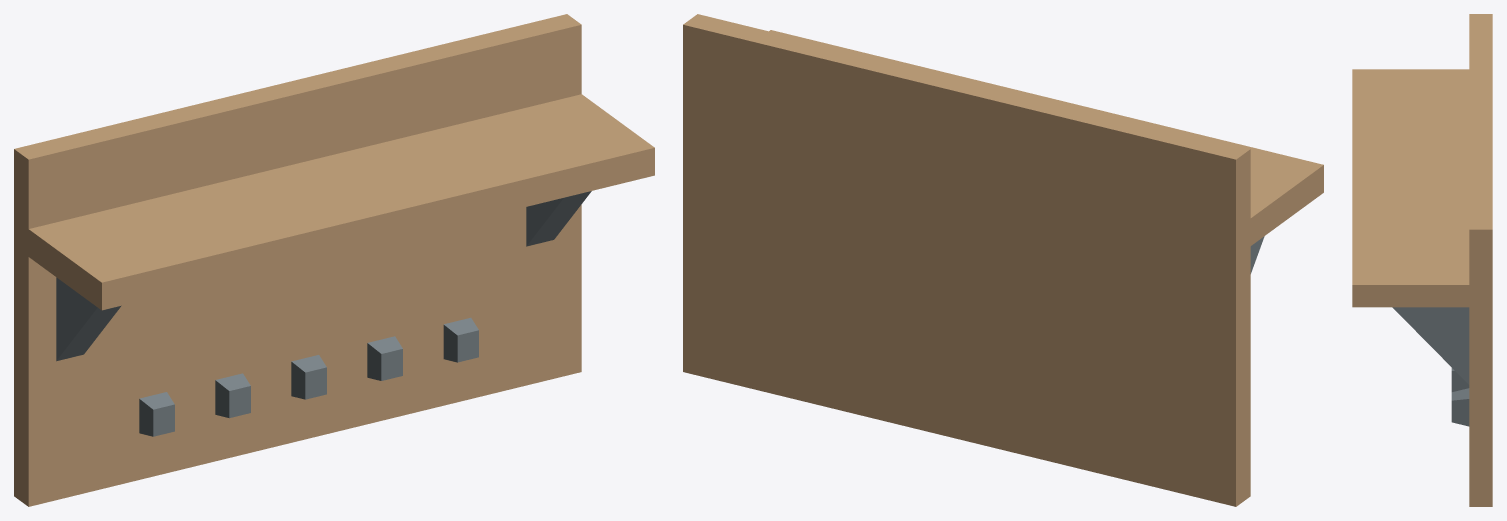
File: coat-rack-wall.glb
The picture shows the model from 3 angles, left to right: view 1: azimuth 30°, elevation 25°; view 2: azimuth 150°, elevation 25°; view 3: azimuth 270°, elevation 25°; orthographic projection. The views are drawn at different scales.
Visible parts, largest first — view 1: coat-rack-wall; view 2: coat-rack-wall; view 3: coat-rack-wall.
Part boxes in pixels (left/top/right/bottom): coat-rack-wall: left=14, top=14, right=654, bottom=506; coat-rack-wall: left=683, top=14, right=1323, bottom=506; coat-rack-wall: left=1352, top=14, right=1492, bottom=506.
Bounding box in the file's own units: 0.8 × 0.48 × 0.22.
